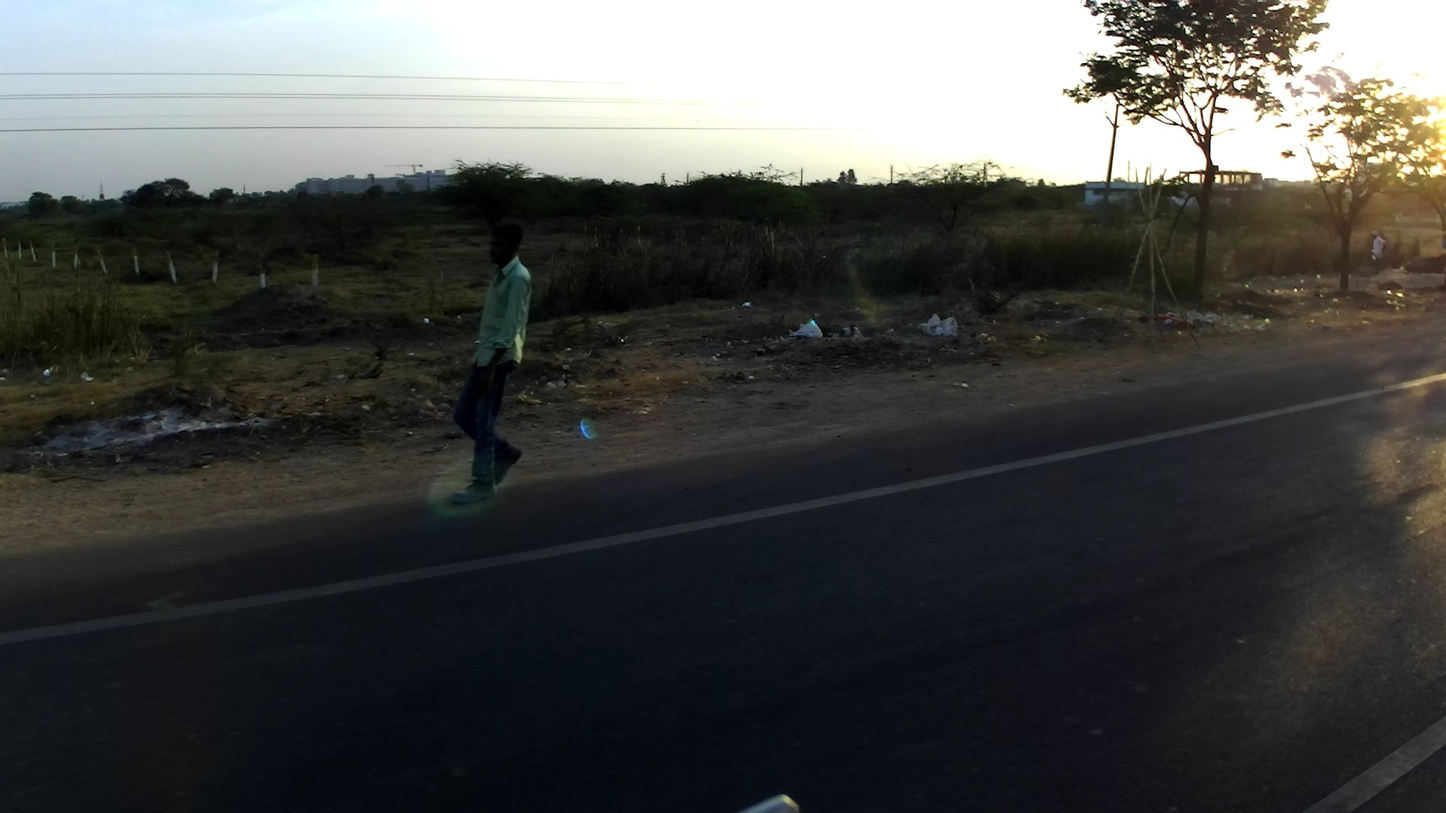person: (441, 220, 535, 508), (1365, 228, 1387, 278)
